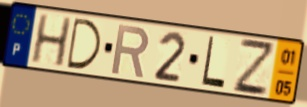2: (152, 30, 187, 85)
D: (65, 16, 104, 72)
H: (29, 13, 74, 69)
L: (199, 34, 227, 91)
R: (109, 22, 152, 80)
Z: (232, 36, 275, 98)
